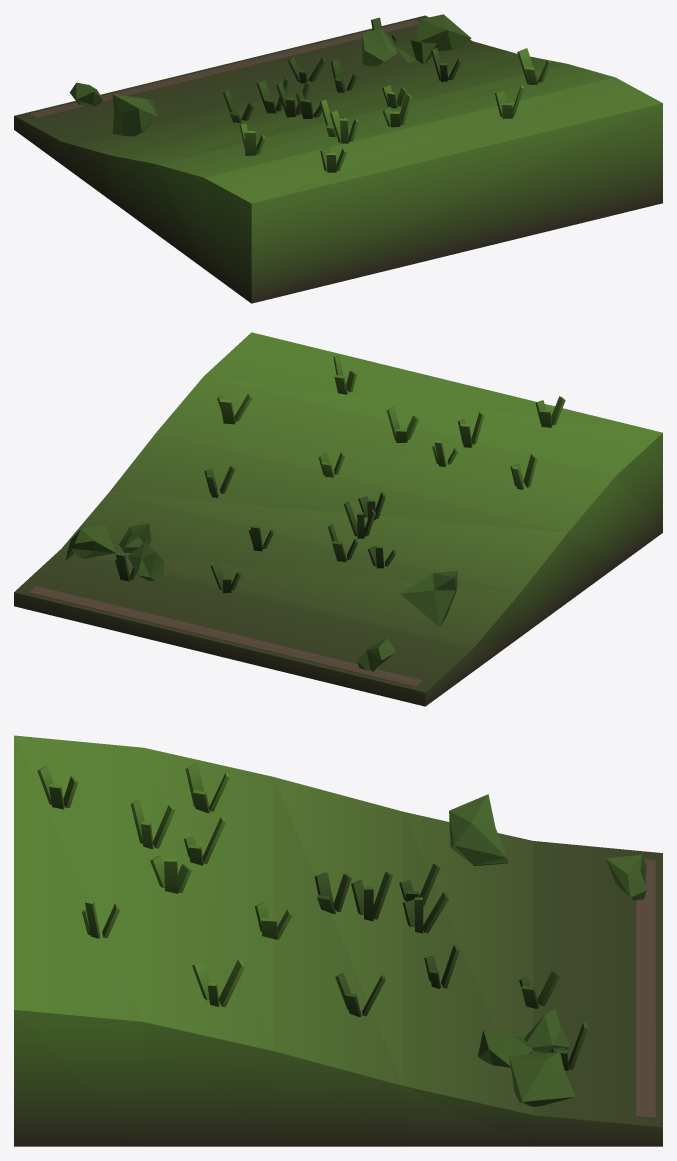
Rendered from ground-slope-embankment-tile.glb.
The picture shows the model from 3 angles, top to bottom: view 1: azimuth 30°, elevation 25°; view 2: azimuth 150°, elevation 25°; view 3: azimuth 270°, elevation 25°; orthographic projection. The views are drawn at different scales.
Visible parts, largest first — view 1: ground_slope_embankment_tile; view 2: ground_slope_embankment_tile; view 3: ground_slope_embankment_tile.
Part boxes in pixels (left/top/right/bottom): ground_slope_embankment_tile: left=14, top=14, right=662, bottom=303; ground_slope_embankment_tile: left=14, top=332, right=662, bottom=706; ground_slope_embankment_tile: left=14, top=735, right=662, bottom=1146.
Bounding box in the file's own units: 4 × 1.15 × 4.
